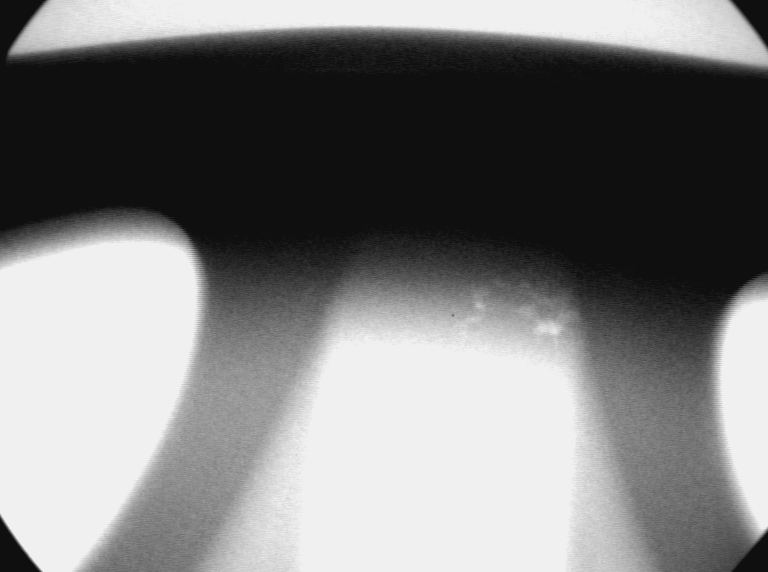defect: (459, 274, 585, 351)
